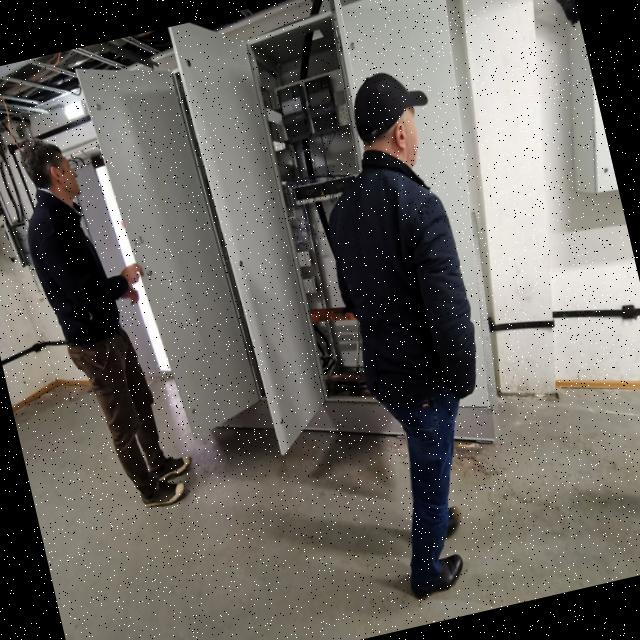NoHelmet: (345, 59, 443, 176), (18, 131, 88, 216)
